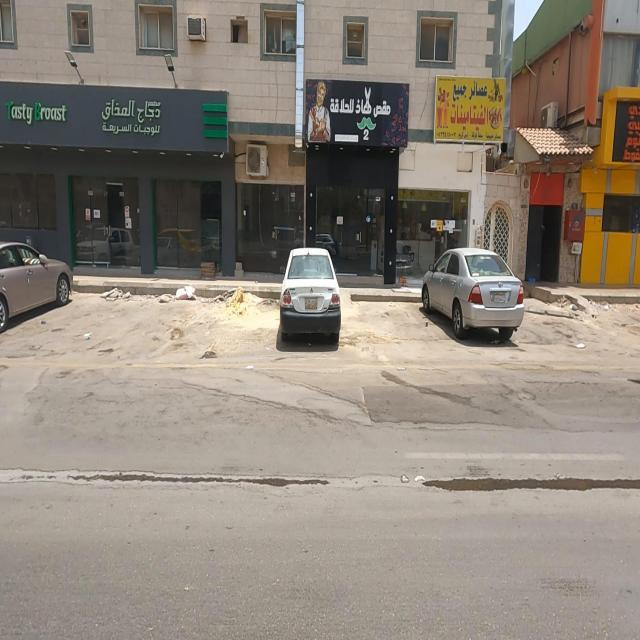debris: (154, 262, 222, 333), (201, 266, 262, 328), (86, 266, 151, 322), (579, 271, 628, 344), (62, 302, 113, 372), (538, 283, 592, 338), (563, 322, 592, 374)
